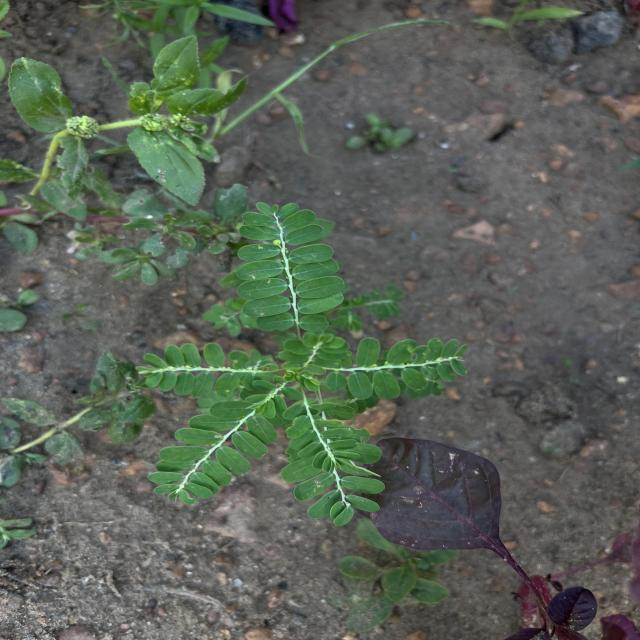Phyllanthus niruri: (234, 199, 346, 334), (145, 393, 277, 506), (284, 396, 386, 528), (318, 334, 469, 402), (131, 342, 269, 401)
